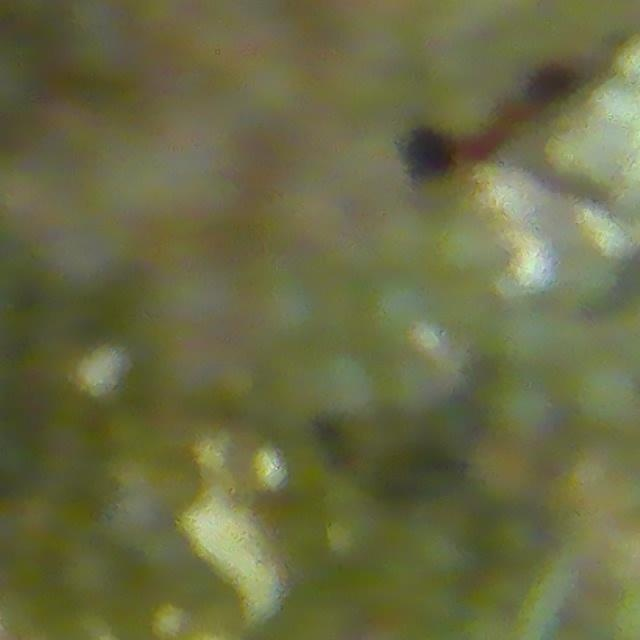SeaGrape: (564, 355, 640, 432), (487, 375, 558, 444), (355, 281, 427, 346), (58, 540, 125, 605)
